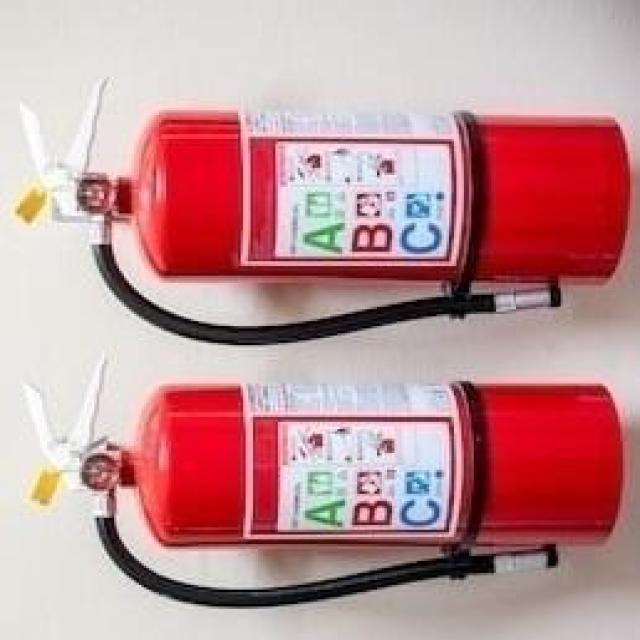fire_extinguisher: (0, 62, 633, 348)
